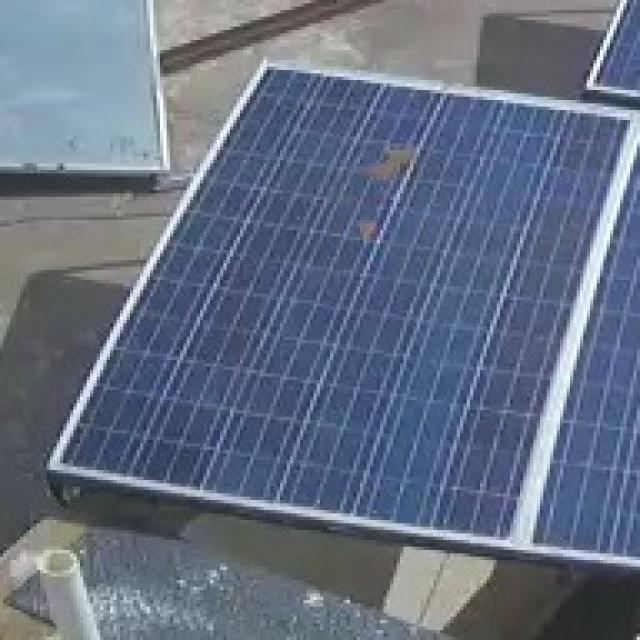Anomaly Solar Panel: (51, 61, 635, 546)
Surface Contaminant: (364, 141, 423, 181), (358, 211, 376, 249)
